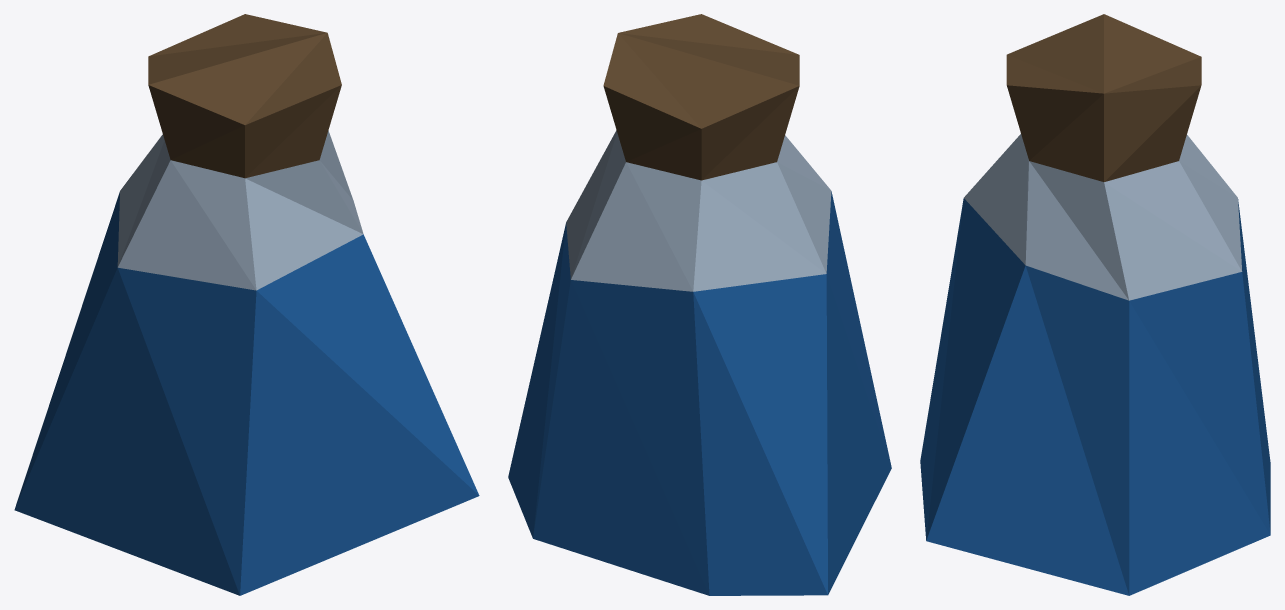
Rendered from potion_01.fbx.
3 views of the same model, side by side, from view 1: azimuth 30°, elevation 25°; view 2: azimuth 150°, elevation 25°; view 3: azimuth 270°, elevation 25° (orthographic).
Visible parts, largest first — view 1: potion_01; view 2: potion_01; view 3: potion_01.
Part boxes in pixels (box(x1,y1,x2,y2)): potion_01: box(14, 14, 479, 595); potion_01: box(508, 14, 891, 595); potion_01: box(920, 14, 1270, 595).
Size of the model in its own units: 1.16 by 1.4 by 0.9797.
